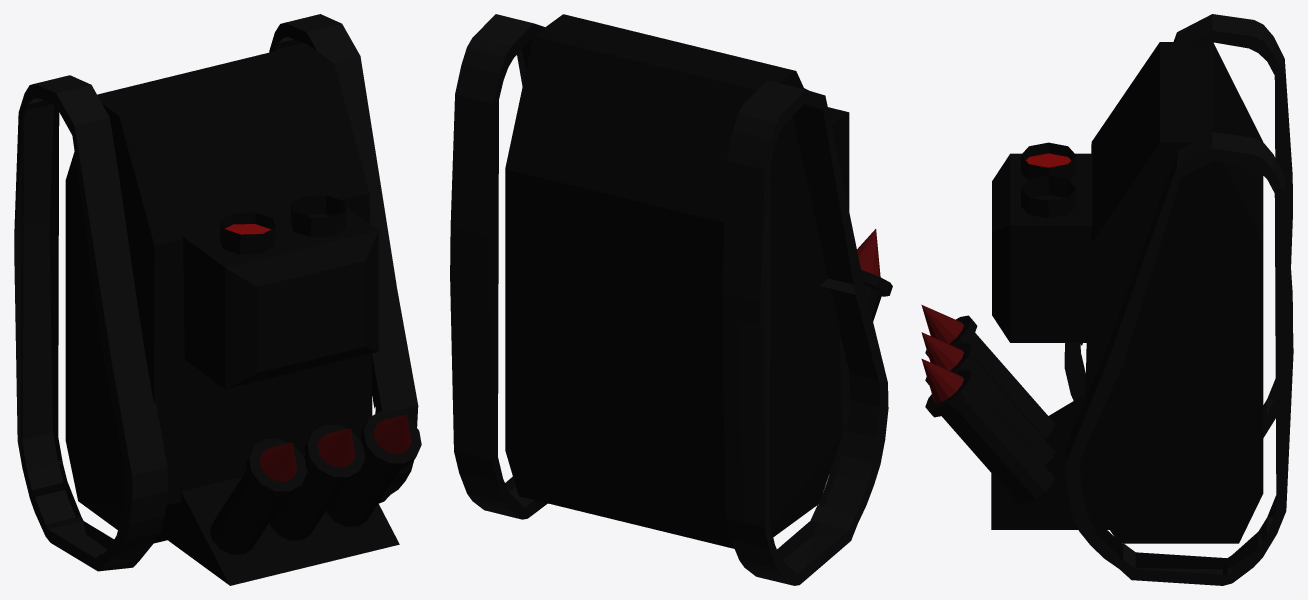
The model's file is Tanque.obj.
3 views of the same model, side by side, from view 1: azimuth 30°, elevation 25°; view 2: azimuth 150°, elevation 25°; view 3: azimuth 270°, elevation 25° (orthographic). The views are drawn at different scales.
Parts seen in each view (by area): view 1: Circle.054; view 2: Circle.054; view 3: Circle.054.
Boxes of the visible parts, x1,y1,x2,y2 form: Circle.054: [14, 14, 421, 585]; Circle.054: [450, 14, 892, 585]; Circle.054: [921, 14, 1293, 585].
Size of the model in its own units: 0.7564 by 1.14 by 0.8822.
